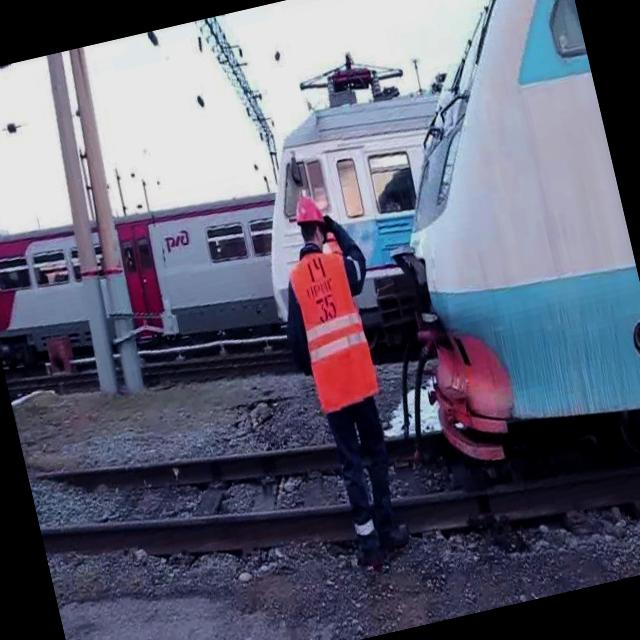vest: (284, 242, 383, 416)
